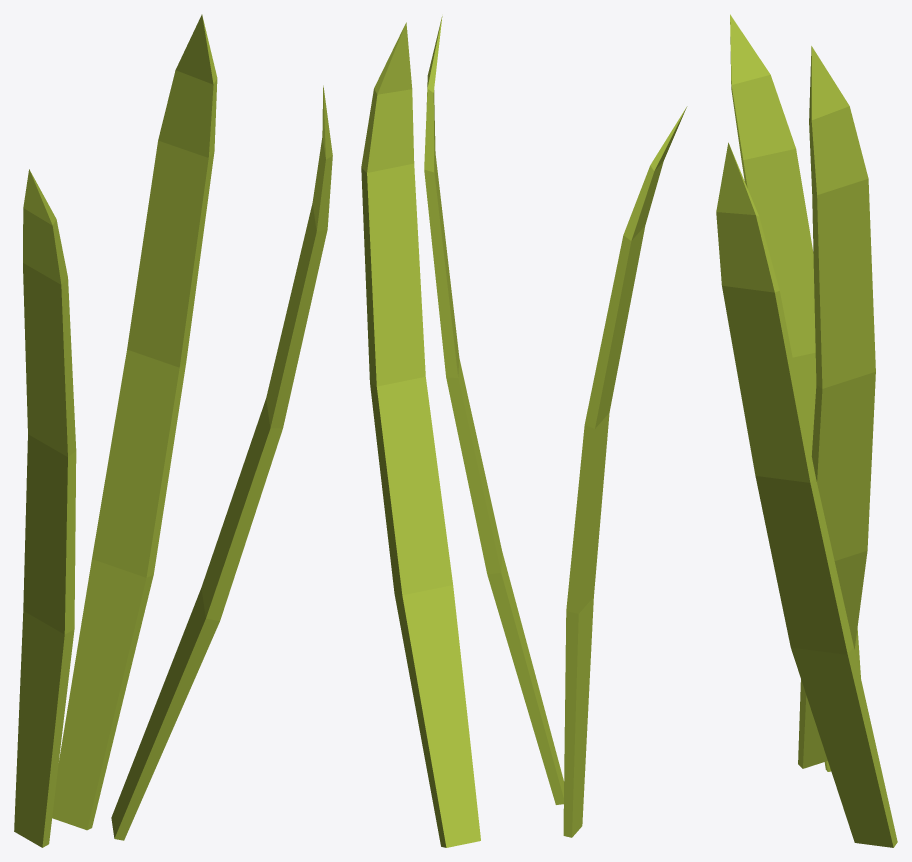
File: grass_01.fbx
3 views of the same model, side by side, from view 1: azimuth 30°, elevation 25°; view 2: azimuth 150°, elevation 25°; view 3: azimuth 270°, elevation 25° (orthographic). The views are drawn at different scales.
Parts seen in each view (by area): view 1: grass_001; view 2: grass_001; view 3: grass_001.
Part boxes in pixels (bbox=[...]): grass_001: bbox=[14, 14, 332, 847]; grass_001: bbox=[361, 16, 687, 847]; grass_001: bbox=[716, 14, 897, 847].
Bounding box in the file's own units: 33.55 × 83.86 × 16.73.
